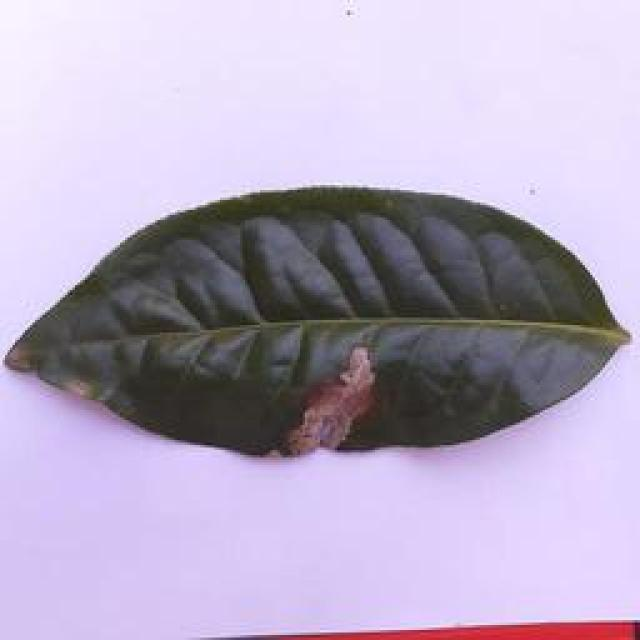Gray Blight: (0, 184, 634, 460)
